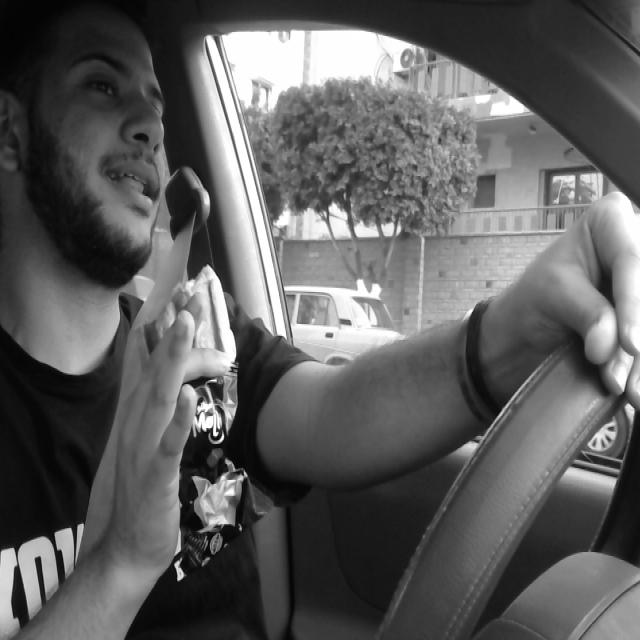eating: (135, 260, 266, 574)
